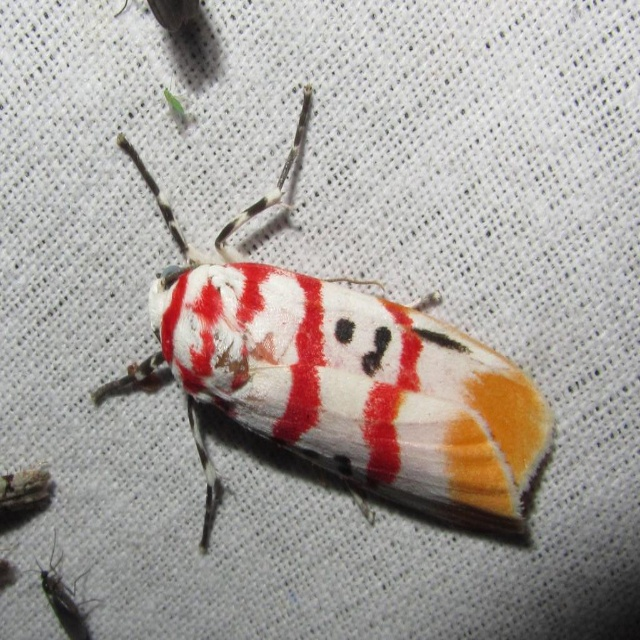Moths and butterflies: (90, 78, 559, 549)
